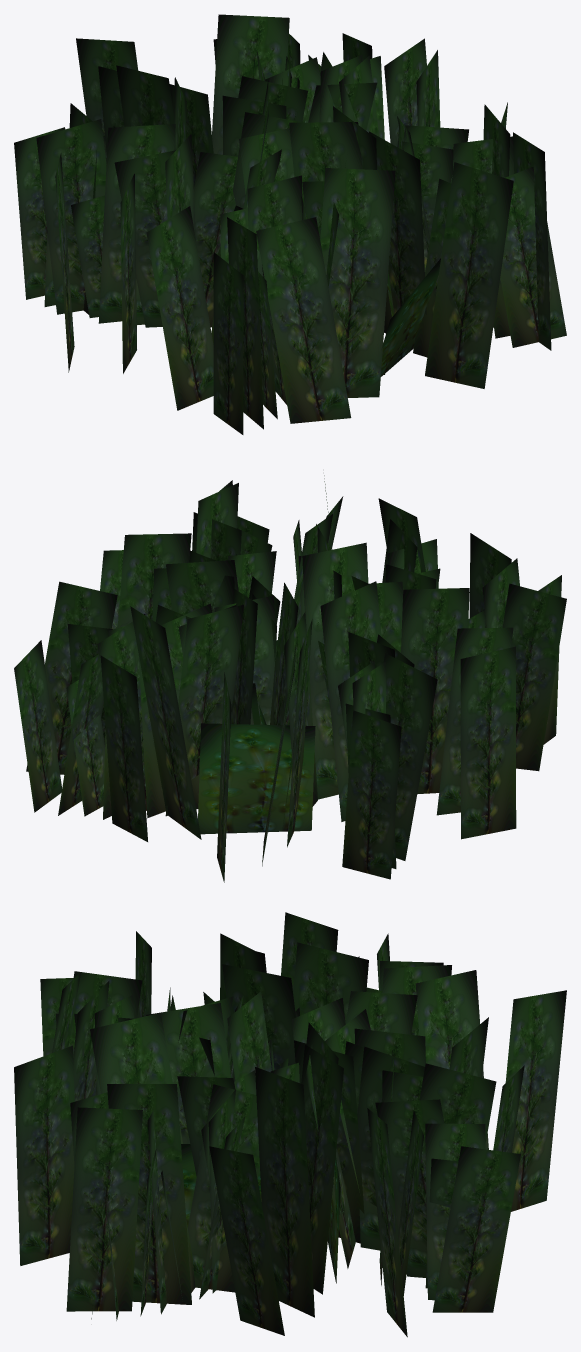
The model's file is FlowerGrass02.fbx.
3 renders of one model, top to bottom at view 1: azimuth 30°, elevation 25°; view 2: azimuth 150°, elevation 25°; view 3: azimuth 270°, elevation 25°, orthographic. The views are drawn at different scales.
Visible parts, largest first — view 1: FlowerGrass02; view 2: FlowerGrass02; view 3: FlowerGrass02.
Boxes of the visible parts, box(x1,y1,x2,y2) form: FlowerGrass02: box(14, 14, 566, 434); FlowerGrass02: box(14, 475, 566, 882); FlowerGrass02: box(14, 912, 566, 1337).
Bounding box in the file's own units: 194 × 98.3 × 201.
